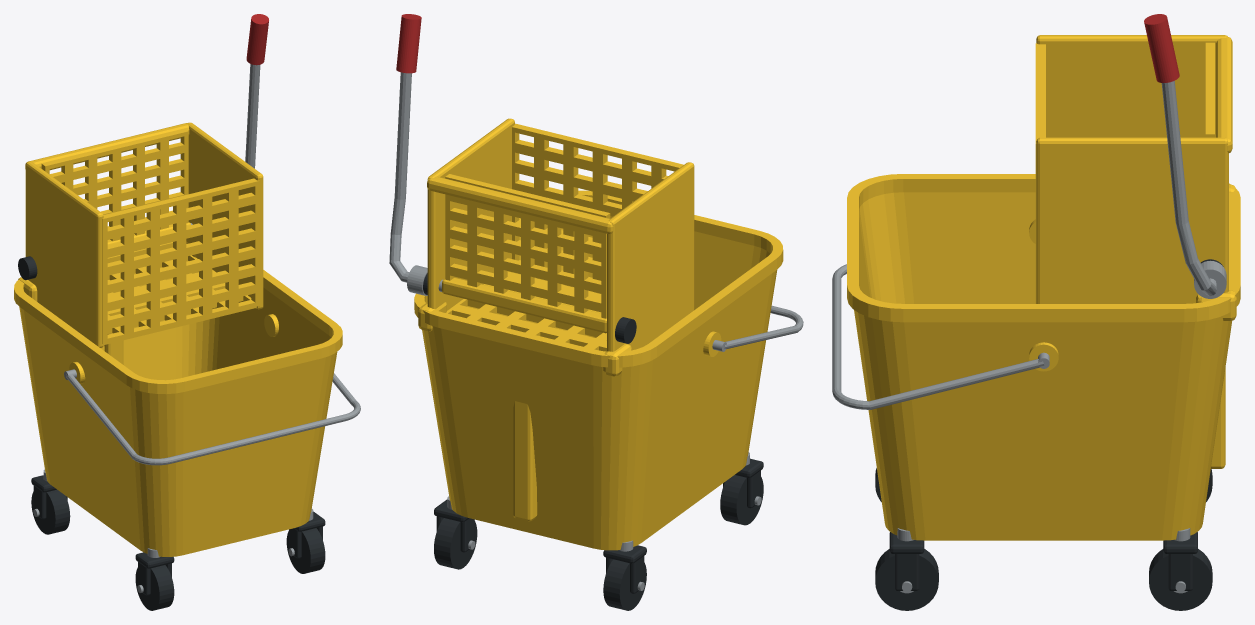
3 renders of one model, left to right at view 1: azimuth 30°, elevation 25°; view 2: azimuth 150°, elevation 25°; view 3: azimuth 270°, elevation 25°, orthographic. The views are drawn at different scales.
Visible parts, largest first — view 1: Hollow tapered bucket, Perforated fixed wringer front, Wringer side cheek -1, Hinged compression plate, Reinforced open bucket lip, Wringer side cheek 1, Front curved bail handle, Perforated wringer floor, Caster wheel -1_-1, Caster wheel 1_-1, Caster wheel -1_1, Upper rear bridge (+2 smaller); view 2: Hollow tapered bucket, Hinged compression plate, Wringer side cheek -1, Perforated fixed wringer front, Reinforced open bucket lip, Wringer side cheek 1, Perforated wringer floor, Upper rear bridge, Compression bottom hinge rib, Rear exterior stiffening rib, Bent wringer operating lever, Caster wheel 1_1 (+4 smaller); view 3: Hollow tapered bucket, Wringer side cheek 1, Wringer side cheek -1, Reinforced open bucket lip, Front curved bail handle, Bent wringer operating lever, Caster wheel 1_-1, Caster wheel 1_1, Upper rear bridge, Lever red grip, Perforated fixed wringer front, Hinged compression plate (+4 smaller).
Boxes of the visible parts, x1=… form: Hollow tapered bucket: x1=19, y1=260, x2=337, y2=556; Perforated fixed wringer front: x1=102, y1=178, x2=259, y2=343; Wringer side cheek -1: x1=25, y1=161, x2=103, y2=347; Hinged compression plate: x1=41, y1=128, x2=188, y2=241; Reinforced open bucket lip: x1=14, y1=242, x2=342, y2=394; Wringer side cheek 1: x1=186, y1=122, x2=263, y2=309; Front curved bail handle: x1=66, y1=373, x2=360, y2=465; Perforated wringer floor: x1=103, y1=255, x2=256, y2=344; Caster wheel -1_-1: x1=135, y1=565, x2=174, y2=610; Caster wheel 1_-1: x1=286, y1=528, x2=325, y2=573; Caster wheel -1_1: x1=31, y1=489, x2=70, y2=534; Upper rear bridge: x1=25, y1=123, x2=189, y2=170; Hollow tapered bucket: x1=422, y1=216, x2=777, y2=550; Hinged compression plate: x1=445, y1=174, x2=610, y2=318; Wringer side cheek -1: x1=607, y1=162, x2=694, y2=351; Perforated fixed wringer front: x1=512, y1=123, x2=683, y2=280; Reinforced open bucket lip: x1=414, y1=190, x2=783, y2=367; Wringer side cheek 1: x1=427, y1=118, x2=514, y2=310; Perforated wringer floor: x1=446, y1=271, x2=606, y2=351; Upper rear bridge: x1=427, y1=176, x2=613, y2=233; Compression bottom hinge rib: x1=442, y1=277, x2=606, y2=333; Rear exterior stiffening rib: x1=513, y1=401, x2=537, y2=521; Bent wringer operating lever: x1=389, y1=72, x2=411, y2=282; Caster wheel 1_1: x1=434, y1=518, x2=477, y2=569; Hollow tapered bucket: x1=854, y1=192, x2=1231, y2=540; Wringer side cheek 1: x1=1036, y1=137, x2=1228, y2=303; Wringer side cheek -1: x1=1036, y1=35, x2=1227, y2=137; Reinforced open bucket lip: x1=847, y1=174, x2=1240, y2=322; Front curved bail handle: x1=832, y1=264, x2=1044, y2=409; Bent wringer operating lever: x1=1161, y1=81, x2=1216, y2=295; Caster wheel 1_-1: x1=875, y1=549, x2=938, y2=610; Caster wheel 1_1: x1=1149, y1=549, x2=1212, y2=610; Upper rear bridge: x1=1216, y1=37, x2=1232, y2=153; Lever red grip: x1=1144, y1=14, x2=1179, y2=82; Perforated fixed wringer front: x1=1035, y1=43, x2=1045, y2=303; Hinged compression plate: x1=1205, y1=42, x2=1214, y2=137.
Size of the model in its own units: 0.502 by 0.9251 by 0.552.
